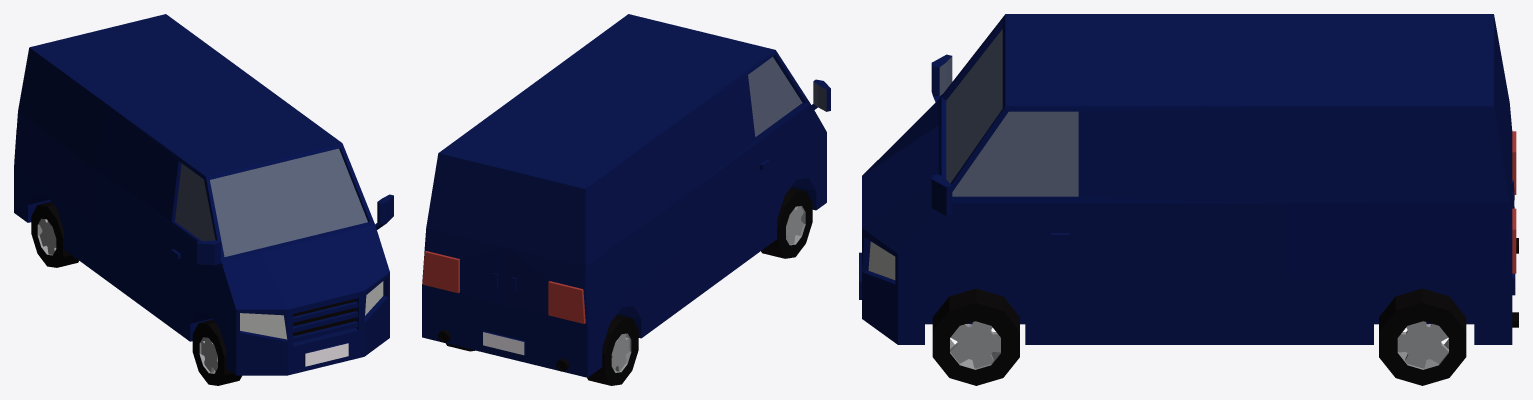
File: van.glb
3 views of the same model, side by side, from view 1: azimuth 30°, elevation 25°; view 2: azimuth 150°, elevation 25°; view 3: azimuth 270°, elevation 25° (orthographic). The views are drawn at different scales.
Parts seen in each view (by area): view 1: paint, glass, wheel_fr, wheel_rr, headlights; view 2: paint, glass, taillights, wheel_rr, wheel_fr; view 3: paint, glass, wheel_fl, wheel_rl, headlights, taillights.
Part boxes in pixels (bbox=[...]): paint: bbox=[14, 14, 393, 375]; glass: bbox=[175, 148, 367, 256]; wheel_fr: bbox=[192, 319, 241, 385]; wheel_rr: bbox=[31, 201, 78, 267]; headlights: bbox=[240, 281, 383, 339]; paint: bbox=[422, 14, 830, 377]; glass: bbox=[748, 57, 826, 136]; taillights: bbox=[422, 251, 585, 323]; wheel_rr: bbox=[587, 314, 638, 385]; wheel_fr: bbox=[761, 187, 812, 258]; paint: bbox=[859, 14, 1518, 344]; glass: bbox=[939, 29, 1078, 196]; wheel_fl: bbox=[932, 288, 1019, 385]; wheel_rl: bbox=[1379, 288, 1466, 385]; headlights: bbox=[868, 241, 895, 279]; taillights: bbox=[1512, 131, 1516, 273].
Bounding box in the file's own units: 1.76 × 1.69 × 3.69.
